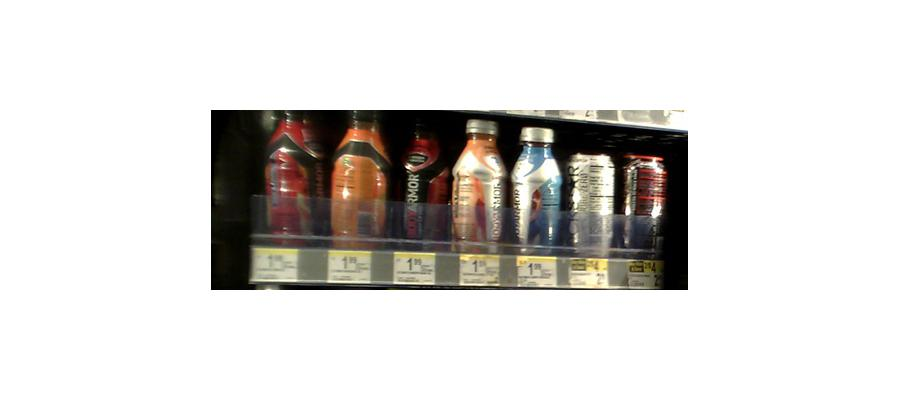bottle: (329, 105, 392, 245), (263, 107, 322, 244), (451, 115, 505, 253), (512, 121, 563, 257), (399, 125, 445, 246), (570, 150, 614, 264), (620, 148, 664, 258)
